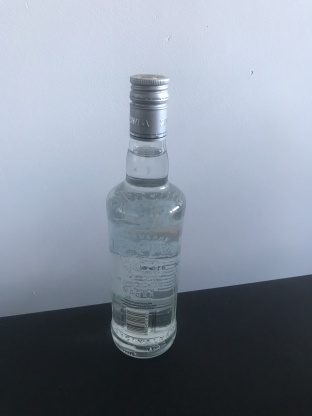nakretka: (127, 72, 169, 142)
